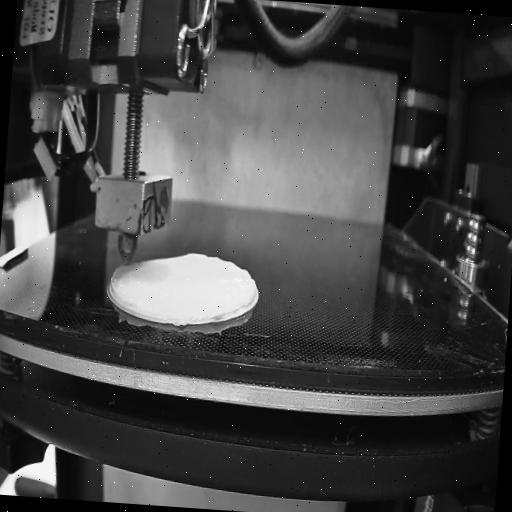over_extrusion: (180, 250, 262, 308), (110, 259, 138, 312)
